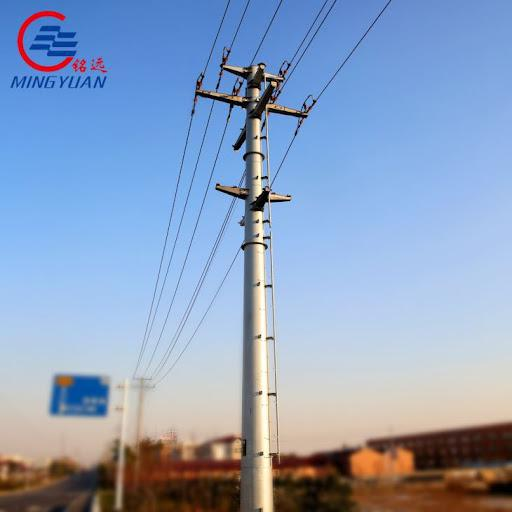mono_7: (192, 47, 318, 511)
